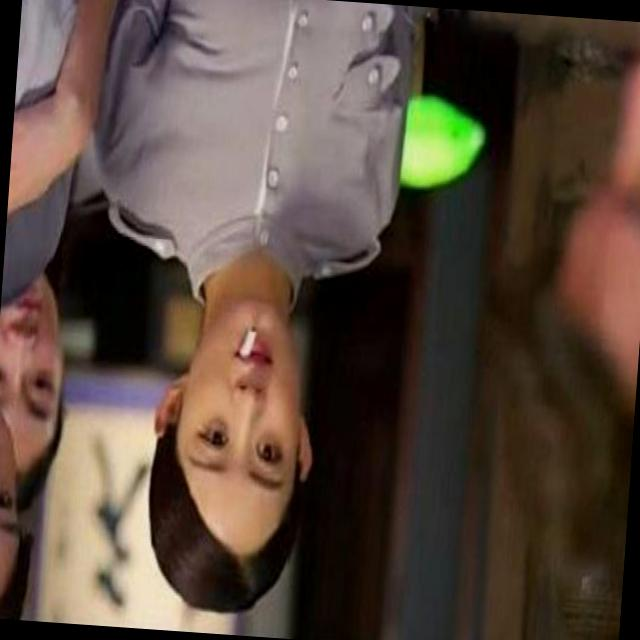cigarette: (224, 324, 255, 369)
